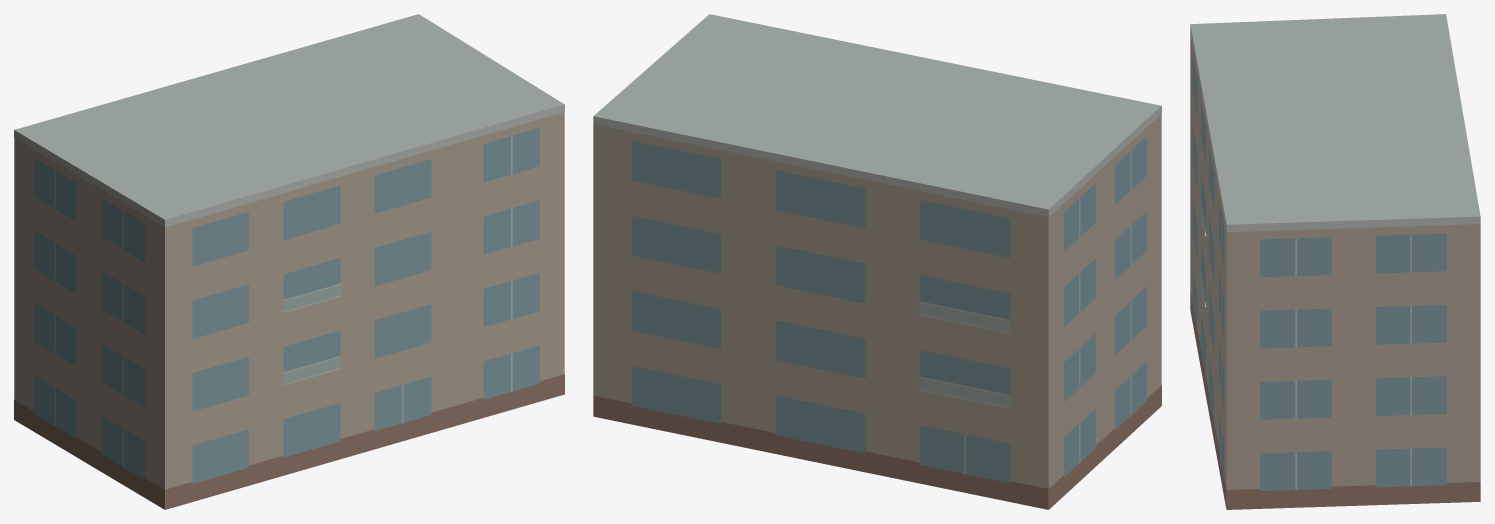
The model's file is survey-upis-32569618.glb.
3 views of the same model, side by side, from view 1: azimuth 30°, elevation 25°; view 2: azimuth 150°, elevation 25°; view 3: azimuth 270°, elevation 25° (orthographic). The views are drawn at different scales.
Visible parts, largest first — view 1: survey-upis-32569618.tmp; view 2: survey-upis-32569618.tmp; view 3: survey-upis-32569618.tmp.
Part boxes in pixels (<box>): survey-upis-32569618.tmp: <box>14,14,564,509</box>; survey-upis-32569618.tmp: <box>593,14,1161,509</box>; survey-upis-32569618.tmp: <box>1190,14,1480,509</box>.
Bounding box in the file's own units: 14.75 × 9.3 × 8.59.
